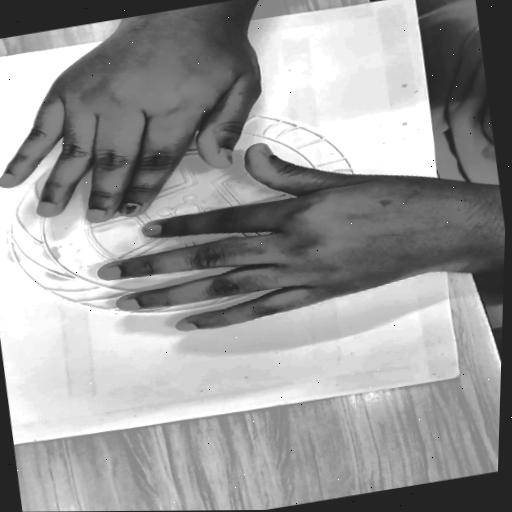bottom_left: (401, 0, 420, 1)
bottom_right: (445, 371, 466, 382)
tire: (0, 89, 393, 349)
